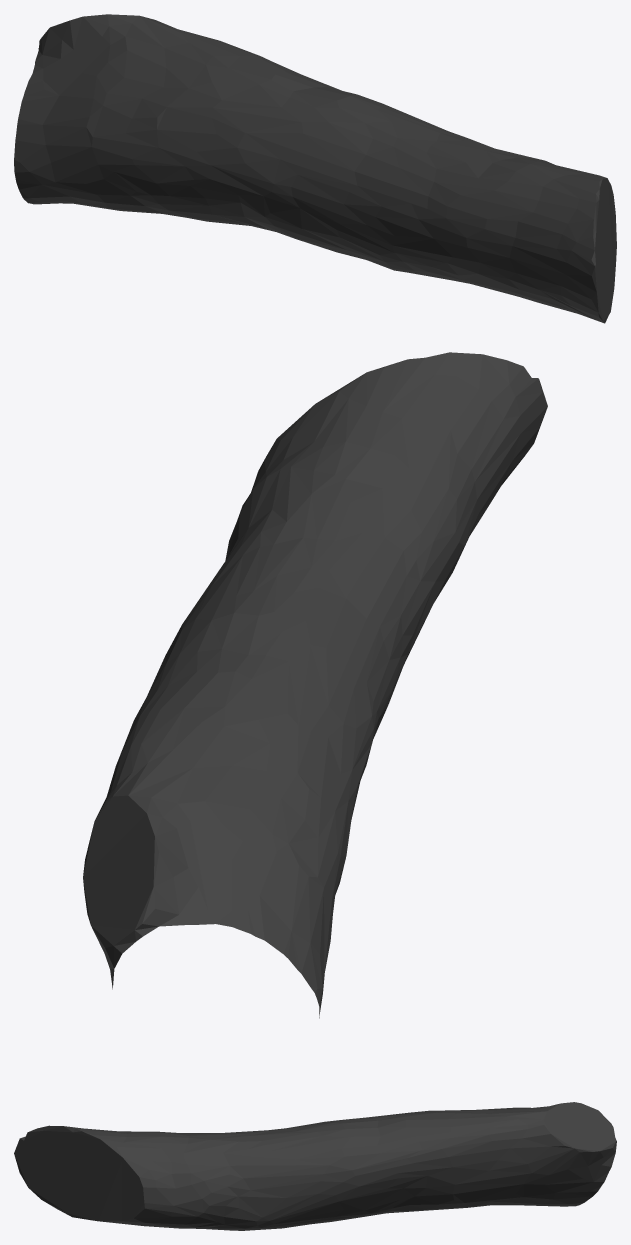
The model's file is Common_iliac_vv_R.glb.
The picture shows the model from 3 angles, top to bottom: view 1: azimuth 30°, elevation 25°; view 2: azimuth 150°, elevation 25°; view 3: azimuth 270°, elevation 25°; orthographic projection. The views are drawn at different scales.
Visible parts, largest first — view 1: Common_iliac_vv_R; view 2: Common_iliac_vv_R; view 3: Common_iliac_vv_R.
Boxes of the visible parts, x1,y1,x2,y2 form: Common_iliac_vv_R: (14,14,616,323); Common_iliac_vv_R: (83,352,547,1018); Common_iliac_vv_R: (14,1102,616,1230).
Bounding box in the file's own units: 0.2016 × 0.1228 × 0.4627.
1 material, 1 textured.
